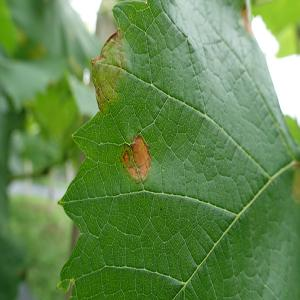Folha: (56, 0, 299, 299)
Fungo: (96, 31, 124, 111), (119, 134, 152, 184), (122, 149, 130, 166)
